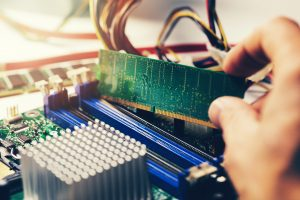ram: (96, 48, 246, 130)
